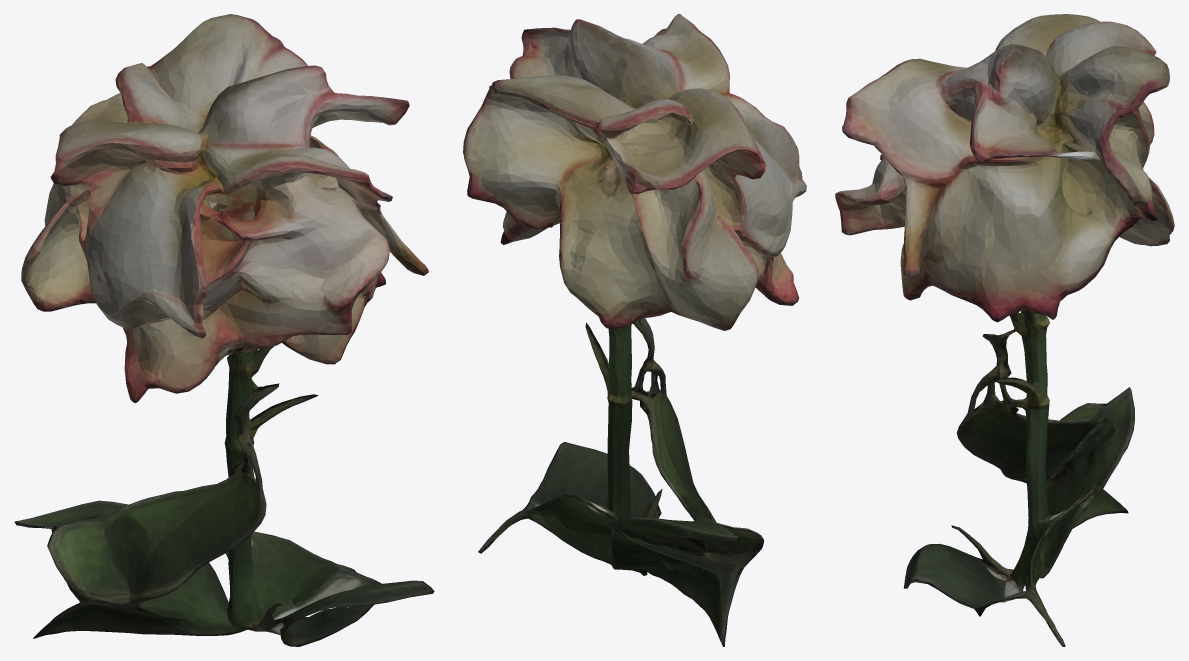
3 renders of one model, left to right at view 1: azimuth 30°, elevation 25°; view 2: azimuth 150°, elevation 25°; view 3: azimuth 270°, elevation 25°, orthographic. The views are drawn at different scales.
Visible parts, largest first — view 1: world; view 2: world; view 3: world.
Boxes of the visible parts, box(x1,y1,x2,y2) form: world: box(14, 14, 434, 646); world: box(463, 14, 806, 646); world: box(835, 14, 1174, 646).
Size of the model in its own units: 0.5638 by 0.9583 by 0.5366.
1 material, 1 textured.
